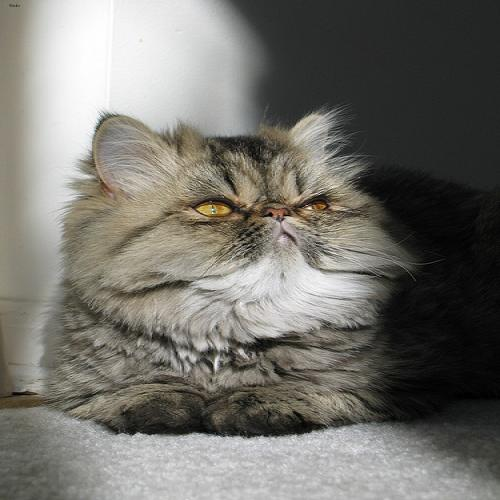bengal: (79, 98, 386, 316)
